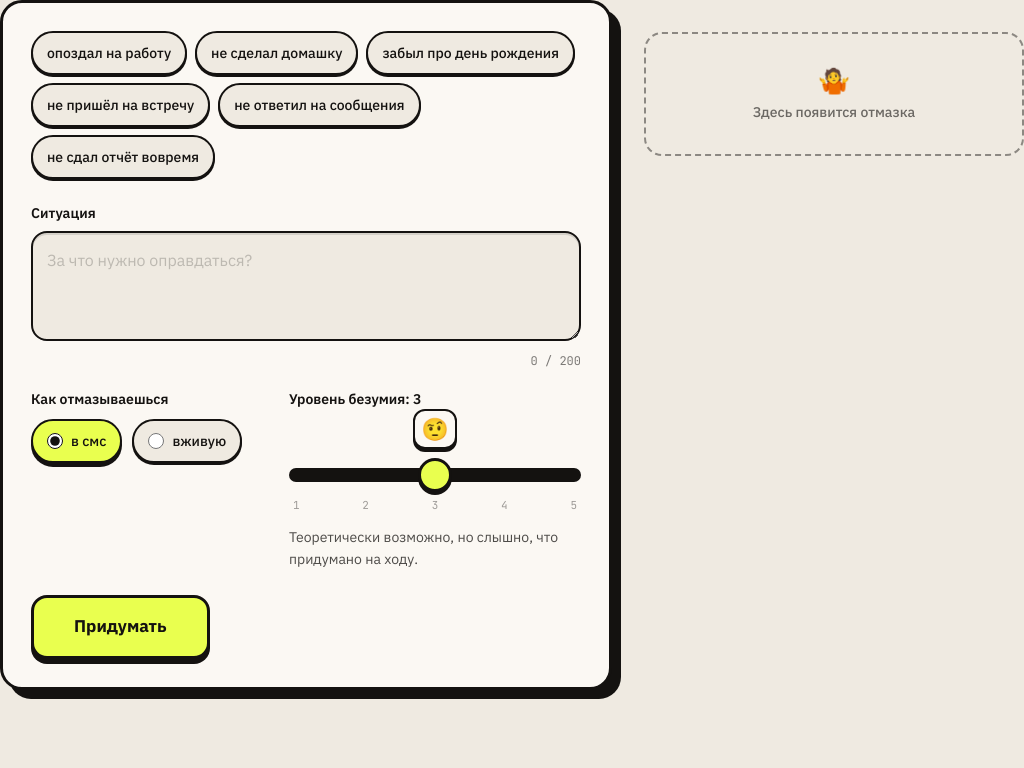
Test: ExcuseForm › подставляет пресет в поле ввода
Click the button "опоздал на работу" at (109, 53), box [31,31,187,75]
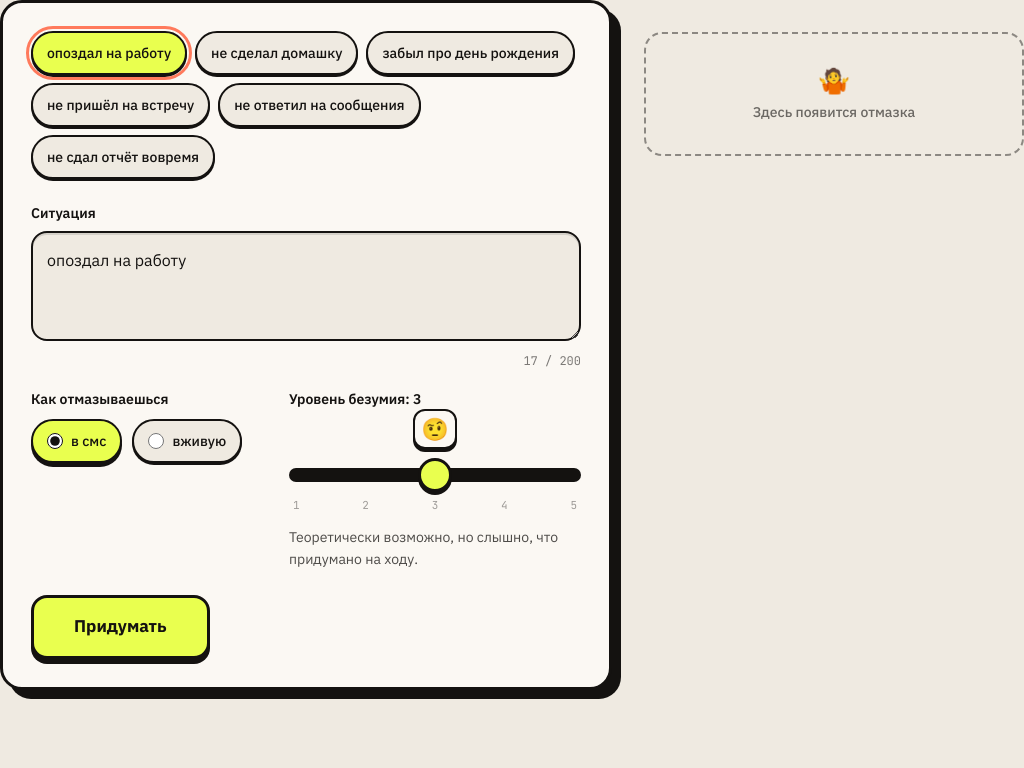
expect the text box labelled "Ситуация" holds "опоздал на работу": met, box [31,231,581,341]
